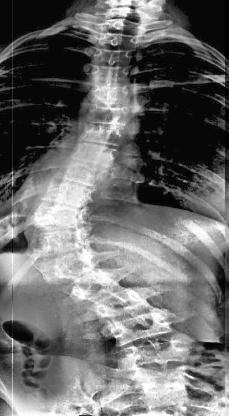Vertebrae: (51, 263, 128, 305), (98, 308, 180, 342), (121, 361, 203, 395), (27, 248, 103, 284), (113, 336, 193, 370), (20, 225, 98, 259), (87, 286, 156, 324), (26, 198, 89, 230), (38, 178, 97, 210), (51, 157, 108, 187), (68, 140, 121, 168), (76, 120, 126, 146), (84, 101, 132, 128), (92, 28, 144, 52), (88, 82, 136, 108), (102, 4, 156, 26), (88, 63, 134, 86), (88, 44, 136, 66), (98, 18, 150, 38)
